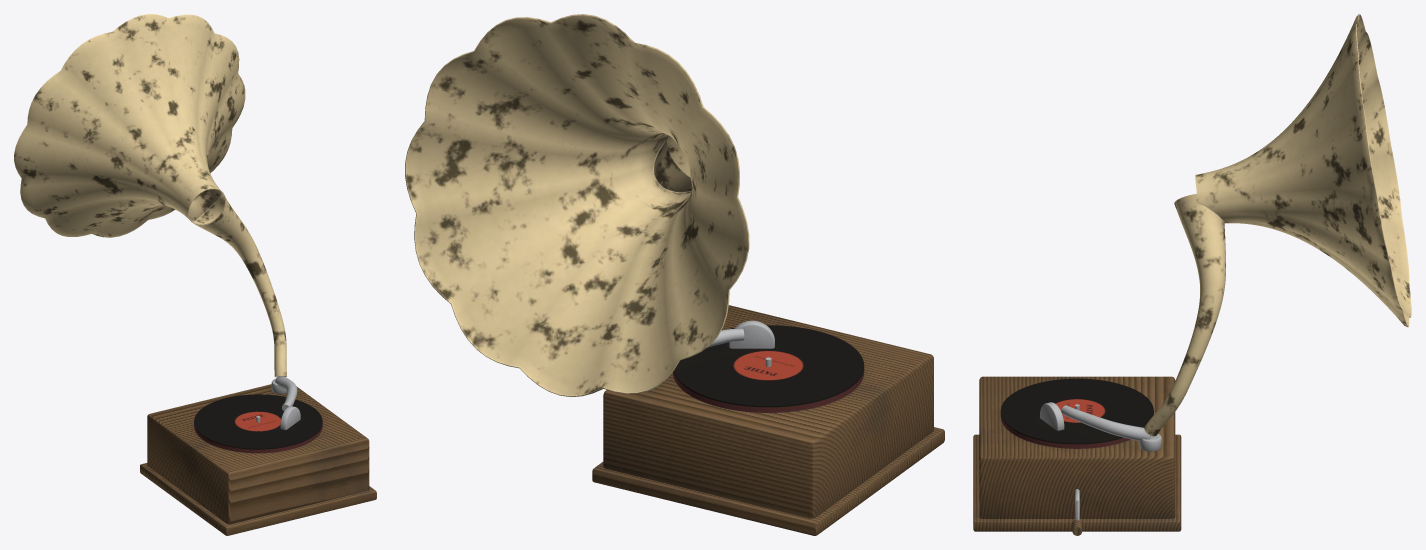
File: gramophone.glb
3 views of the same model, side by side, from view 1: azimuth 30°, elevation 25°; view 2: azimuth 150°, elevation 25°; view 3: azimuth 270°, elevation 25° (orthographic). The views are drawn at different scales.
Visible parts, largest first — view 1: gramophone; view 2: gramophone; view 3: gramophone.
Part boxes in pixels (x1=…): gramophone: x1=14, y1=14, x2=376, y2=535; gramophone: x1=405, y1=14, x2=944, y2=535; gramophone: x1=973, y1=14, x2=1411, y2=535.
Bounding box in the file's own units: 0.5199 × 0.829 × 0.7161.
Materials: 1 (1 with a texture image).
